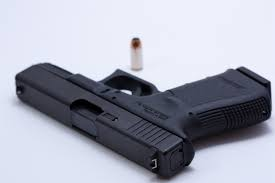gun: (14, 61, 275, 183)
